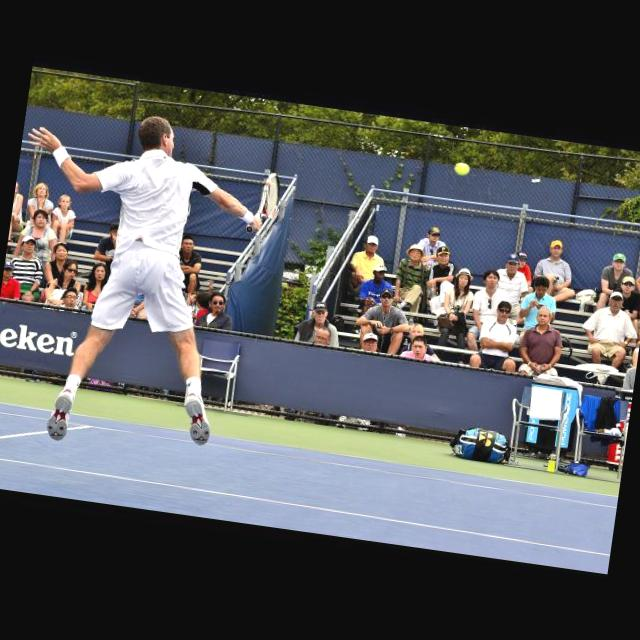Tennis Ball: (452, 160, 472, 177)
